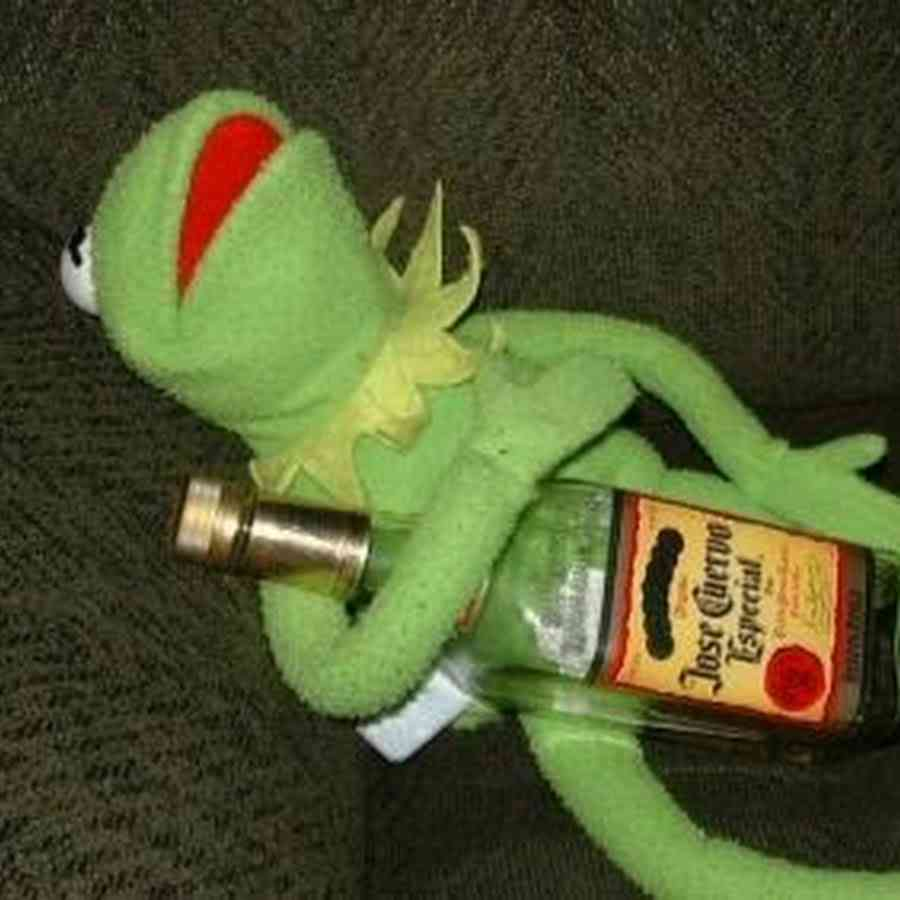kermit: (50, 81, 431, 434)
